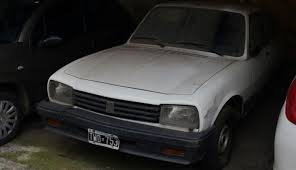car: (44, 4, 276, 160), (1, 1, 99, 142), (270, 70, 296, 169)
